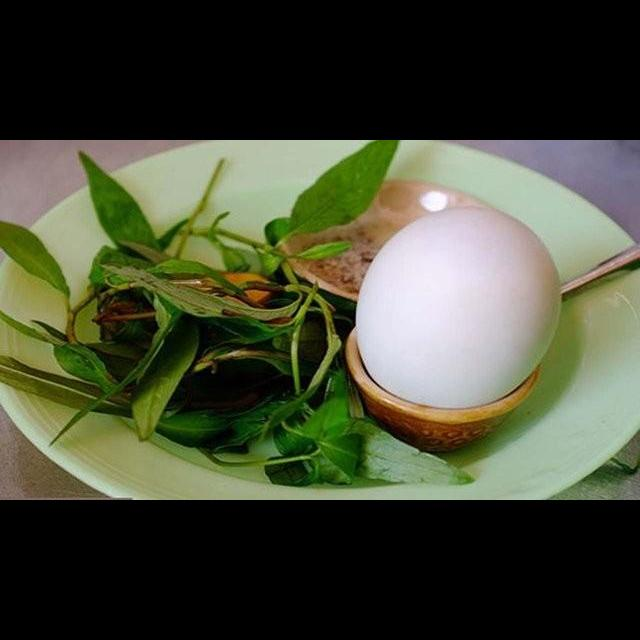rau ram: (1, 145, 193, 401), (96, 256, 345, 451), (168, 141, 406, 281), (146, 362, 367, 492), (304, 412, 480, 490)
trung: (349, 203, 566, 413)
